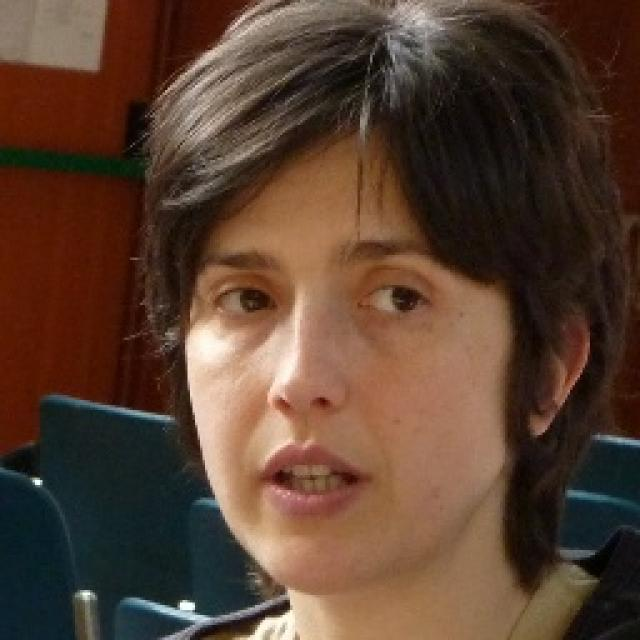earlobe: (526, 389, 568, 438)
eye: (354, 279, 428, 320), (209, 282, 276, 318)
nose: (272, 402, 342, 432)
wholeear: (526, 304, 590, 437)
